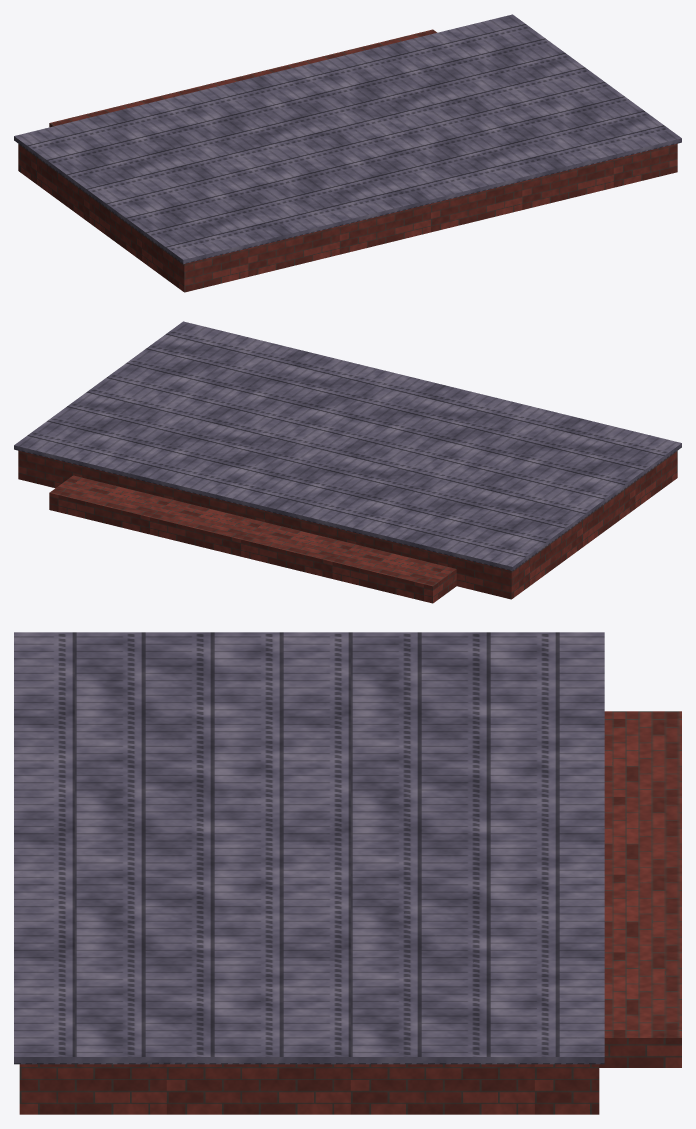
File: Oracle_Door_Podium_LOD2.gltf
3 views of the same model, one above another, from view 1: azimuth 30°, elevation 25°; view 2: azimuth 150°, elevation 25°; view 3: azimuth 270°, elevation 25° (orthographic). The views are drawn at different scales.
Parts seen in each view (by area): view 1: Oracle_Door_Podium_LOD2; view 2: Oracle_Door_Podium_LOD2; view 3: Oracle_Door_Podium_LOD2.
Part boxes in pixels (x1,y1,x2,y2): Oracle_Door_Podium_LOD2: [14, 14, 681, 292]; Oracle_Door_Podium_LOD2: [14, 321, 681, 603]; Oracle_Door_Podium_LOD2: [14, 632, 681, 1114].
Size of the model in its own units: 18.2 by 1.2 by 12.1.
Materials: 2 (2 with a texture image).
